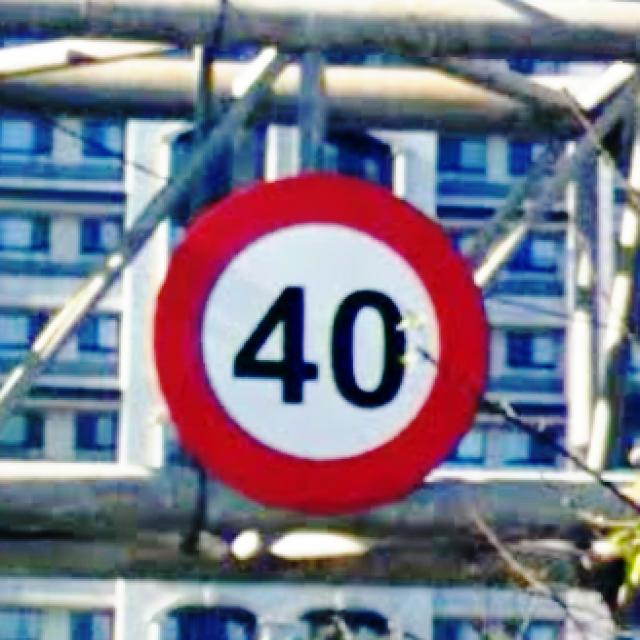max40: (144, 168, 492, 514)
